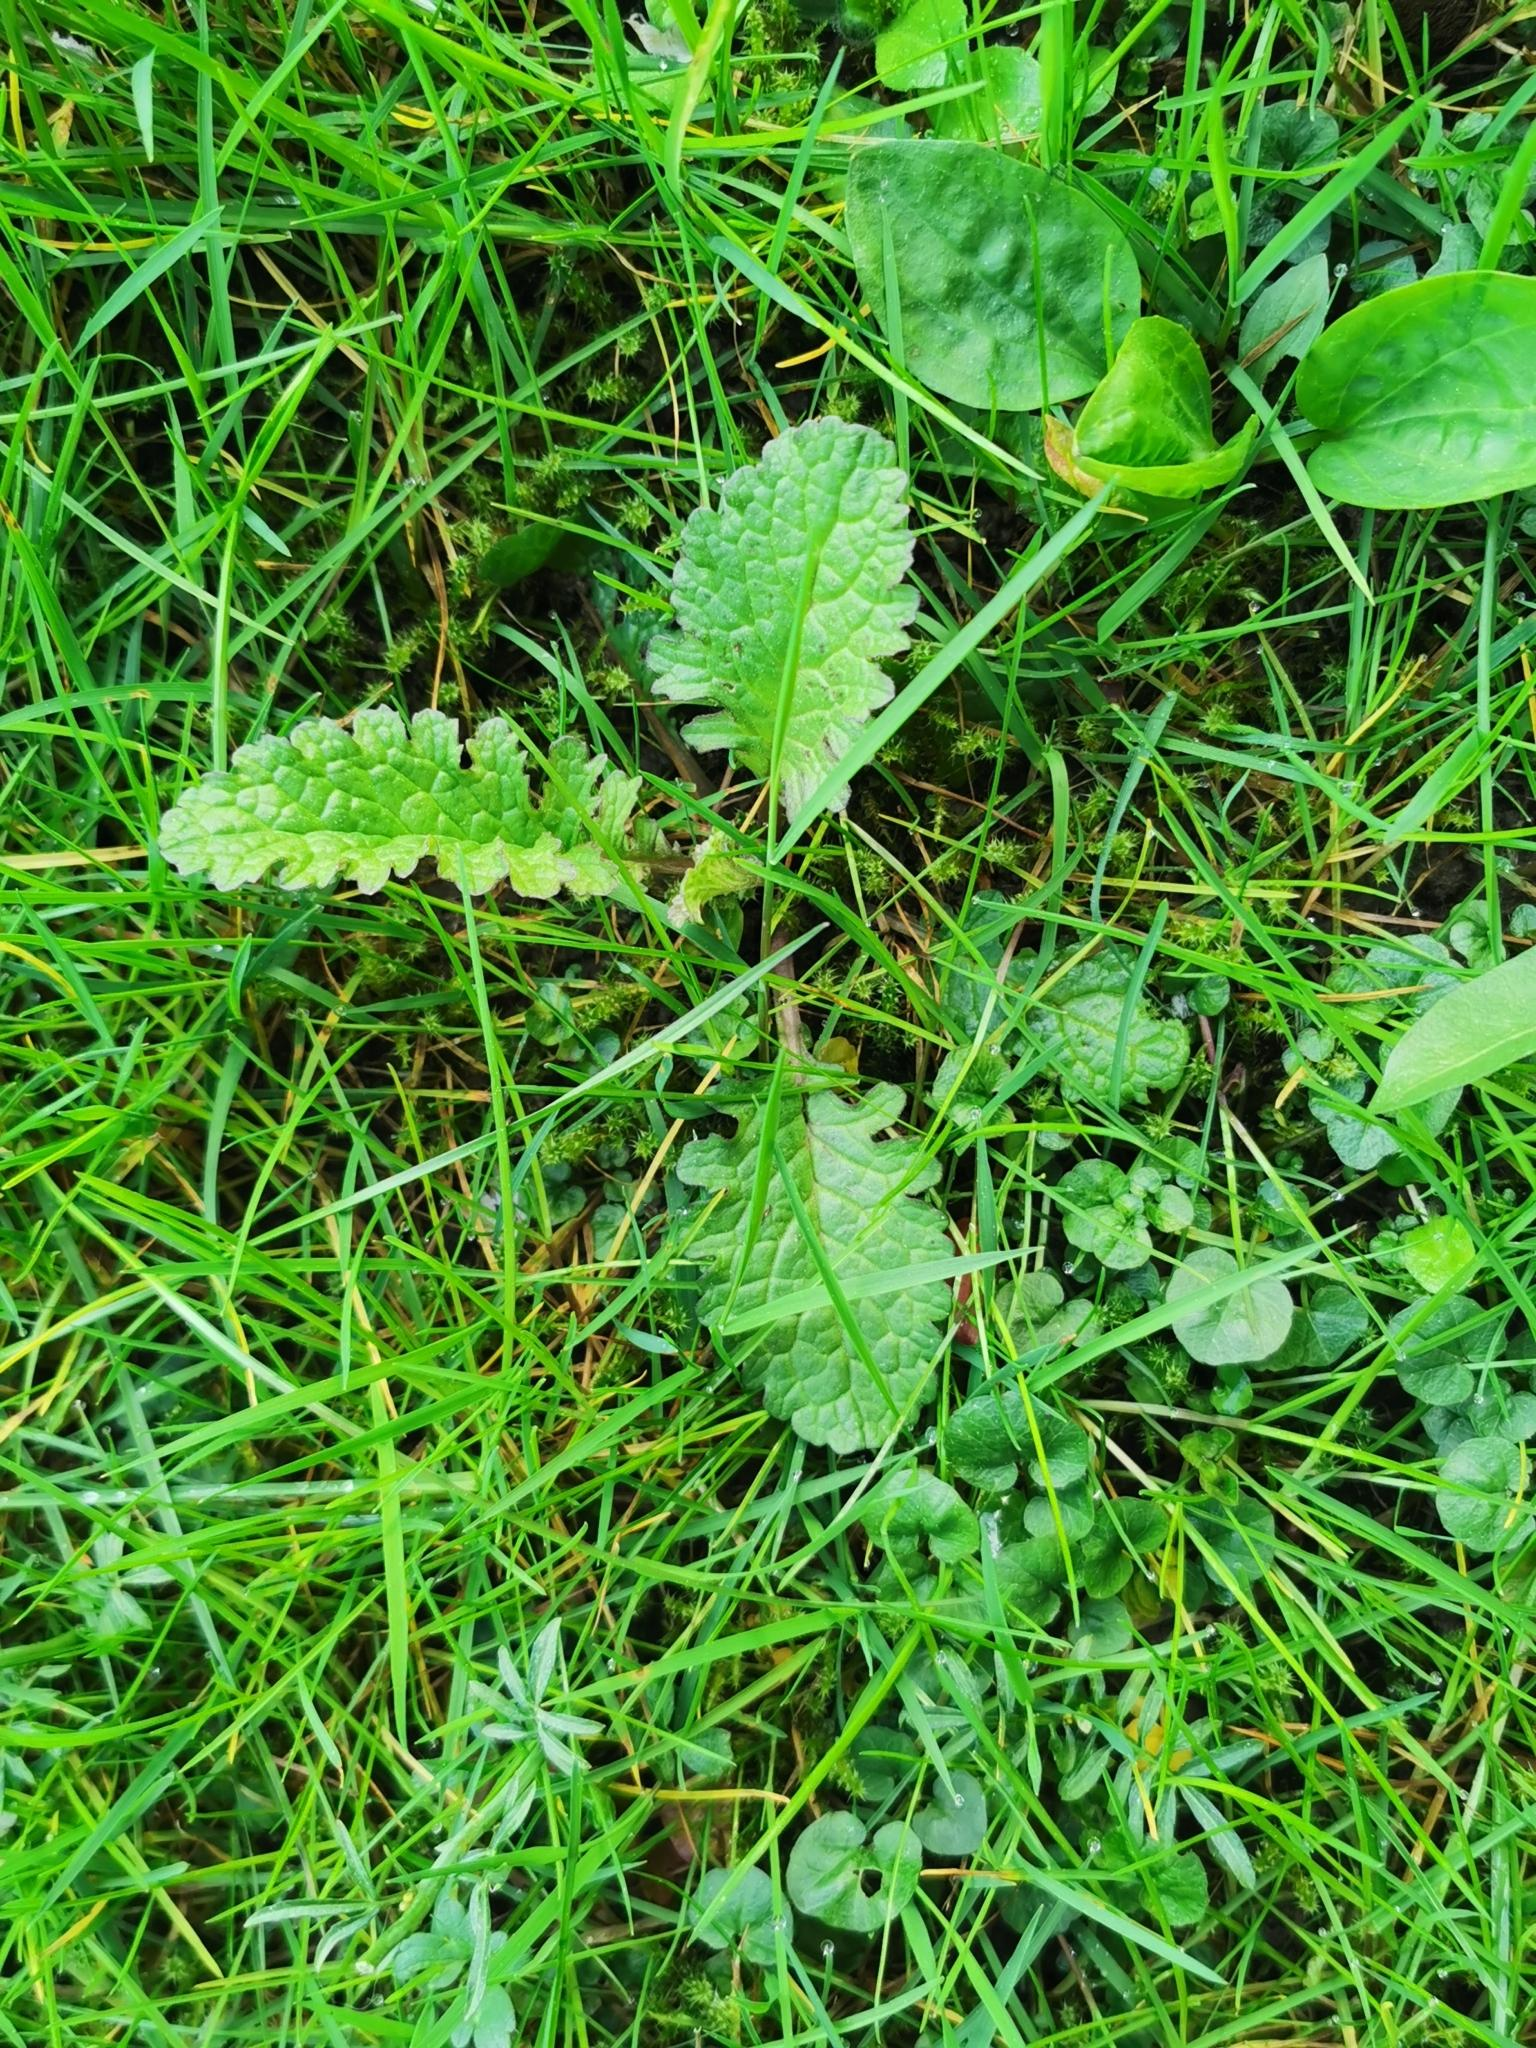Jacobaea vulgaris: (153, 387, 1023, 1487)
